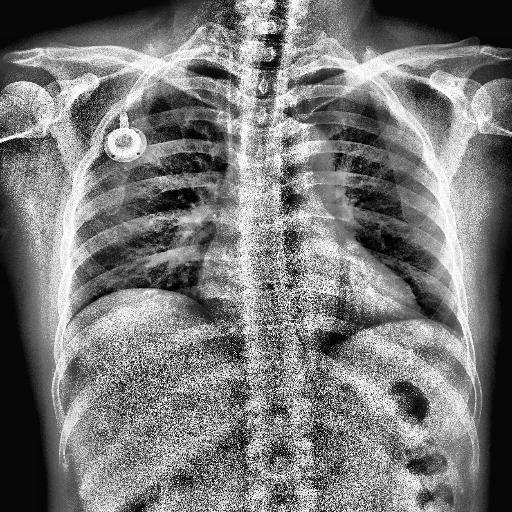0- Aortic enlargement: (274, 114, 334, 196), (278, 114, 334, 178)
3- Cardiomegaly: (193, 259, 420, 329), (196, 264, 426, 324)
